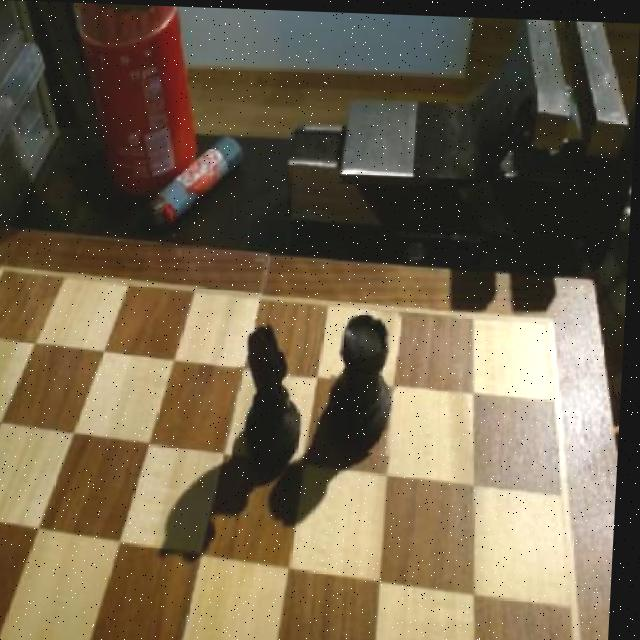black-king: (238, 321, 319, 467)
black-queen: (330, 305, 406, 452)
